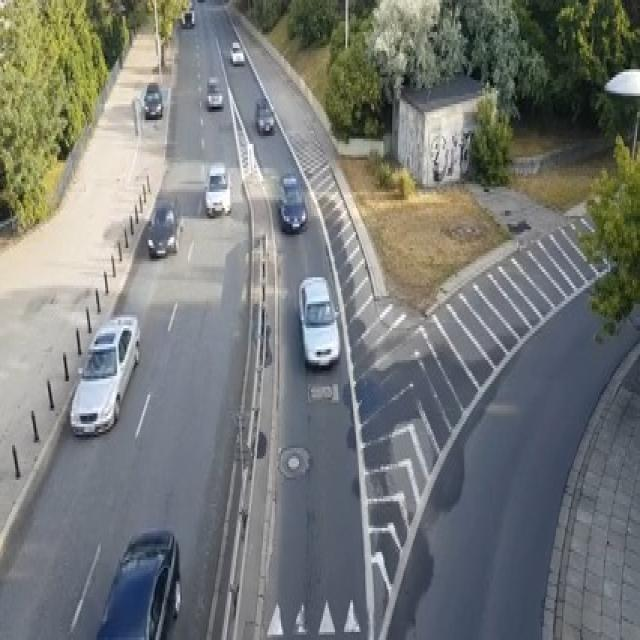car: (95, 528, 180, 637), (69, 314, 140, 434), (298, 275, 340, 368), (146, 197, 182, 259), (276, 171, 306, 232), (204, 163, 232, 216), (254, 96, 273, 133), (143, 83, 162, 117), (206, 75, 222, 109), (228, 40, 245, 64), (180, 8, 196, 27)
